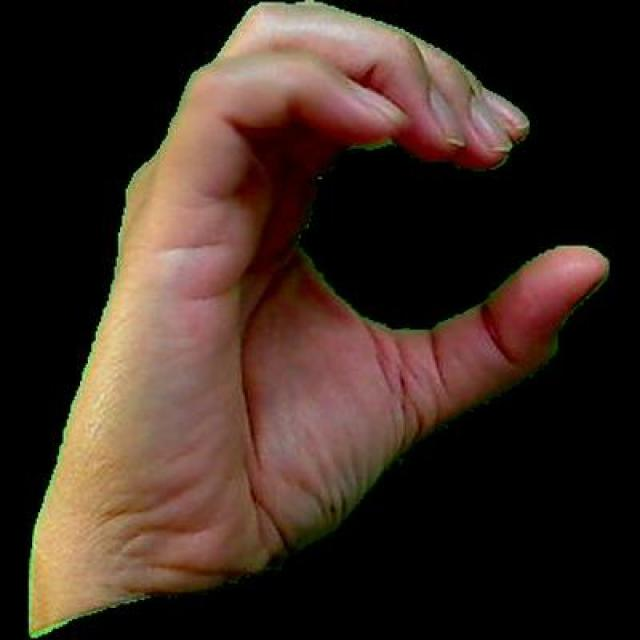c: (21, 0, 613, 637)
